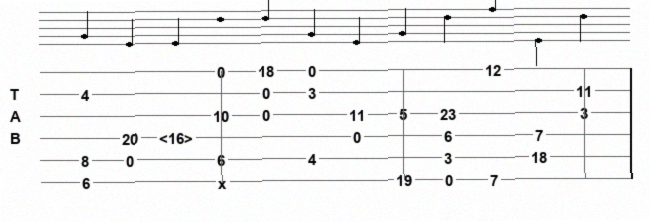0: (126, 151, 138, 166), (217, 63, 229, 78), (262, 85, 274, 100), (262, 107, 274, 122), (308, 63, 320, 78), (353, 129, 365, 144), (444, 173, 456, 188)
10: (213, 107, 233, 122)
11: (349, 107, 369, 122), (576, 85, 596, 100)
12: (485, 63, 505, 78)
18: (258, 63, 278, 78), (531, 151, 551, 166)
19: (395, 173, 415, 188)
20: (122, 129, 142, 144)
23: (440, 107, 460, 122)
3: (308, 85, 320, 100), (444, 151, 456, 166), (580, 107, 592, 122)
4: (81, 85, 93, 100), (308, 151, 320, 166)
5: (399, 107, 411, 122)
6: (81, 173, 93, 188), (217, 151, 229, 166), (444, 129, 456, 144)
7: (489, 173, 501, 188), (535, 129, 547, 144)
8: (81, 151, 93, 166)
harmonic: (159, 129, 197, 144)
x: (217, 174, 230, 186)
